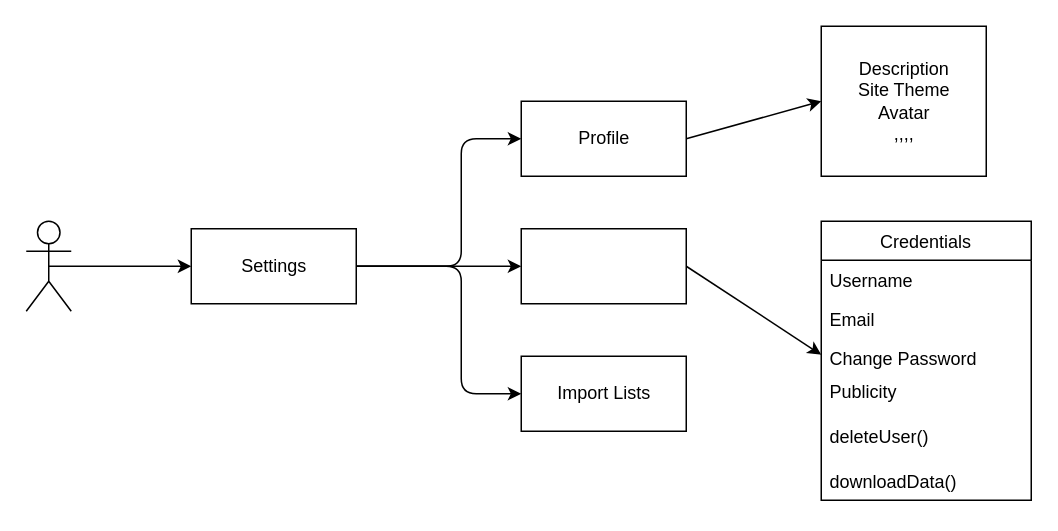
This 1058x531 diagram has some shape labels left out. The shapes that lost their labels are listed below. From the top down, each one's centre as x and y in pixels, then its label:
At (48,265): "Actor".
At (603,265): "Account".
